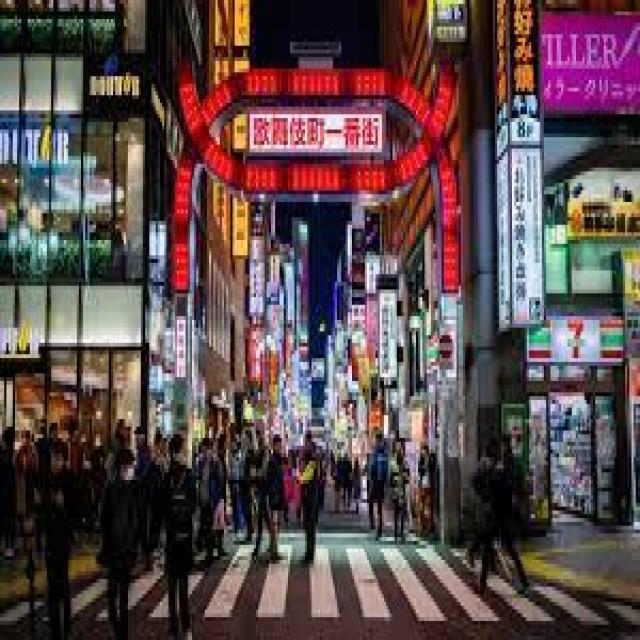Pedestrians: (164, 431, 203, 636), (38, 442, 79, 632), (102, 450, 139, 636), (299, 442, 322, 568), (267, 434, 286, 564)
